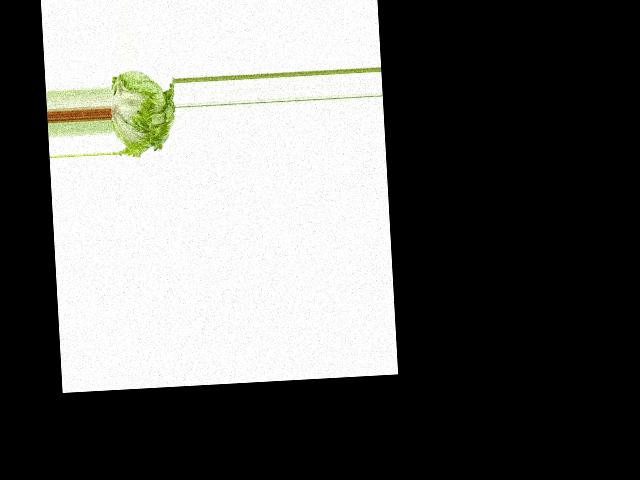lettuce: (107, 66, 177, 161)
